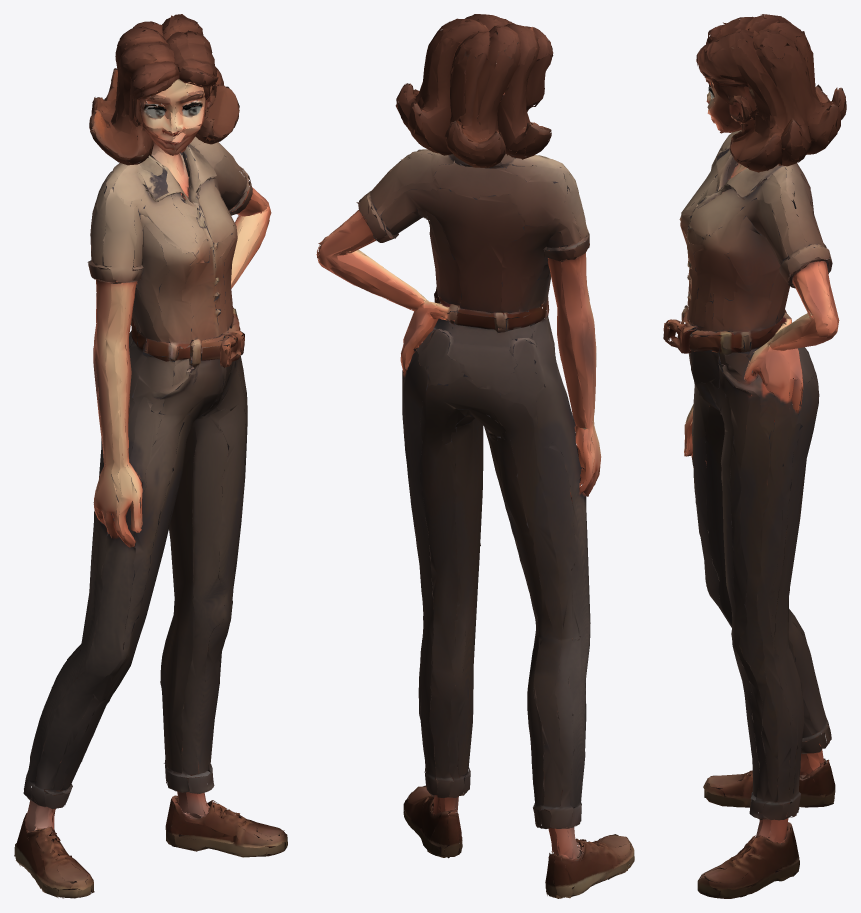
The model's file is bia_apendicite.glb.
3 renders of one model, left to right at view 1: azimuth 30°, elevation 25°; view 2: azimuth 150°, elevation 25°; view 3: azimuth 270°, elevation 25°, orthographic.
Parts seen in each view (by area): view 1: Mesh_0; view 2: Mesh_0; view 3: Mesh_0.
Boxes of the visible parts, x1,y1,x2,y2 form: Mesh_0: [14, 14, 287, 898]; Mesh_0: [316, 14, 634, 898]; Mesh_0: [663, 14, 846, 898].
Size of the model in its own units: 0.5784 by 1.72 by 0.3421.
1 material, 1 textured.
